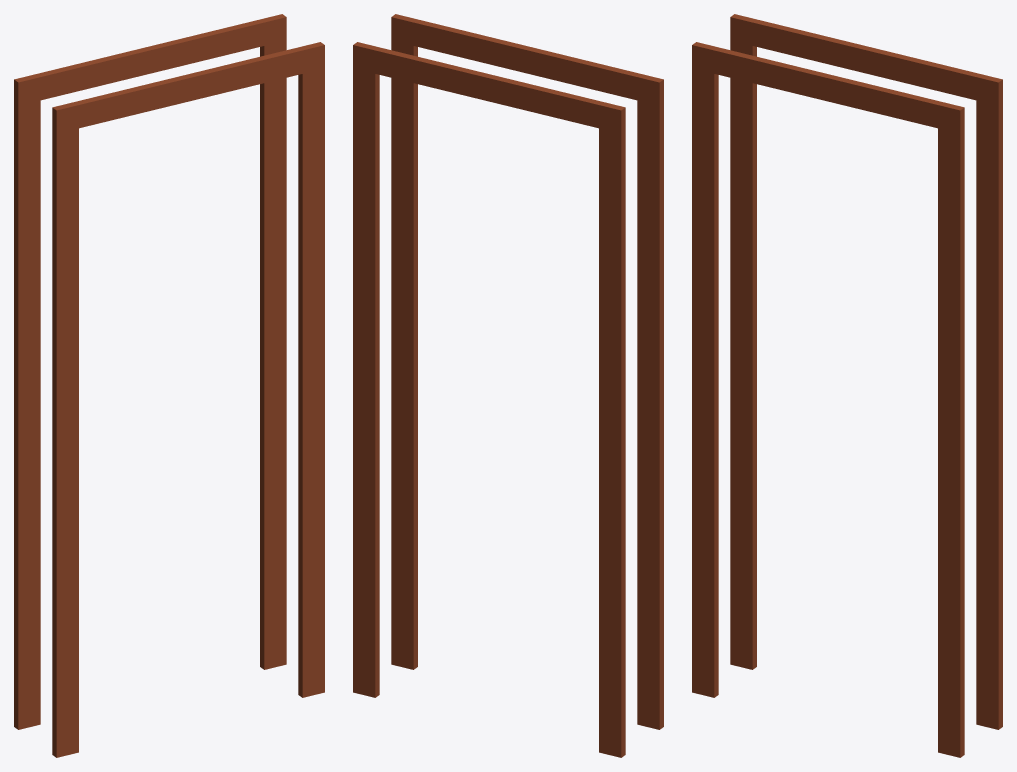
Rendered from 3RJvdtay16xQ_ZgYEsHJx9.dae.
The picture shows the model from 3 angles, left to right: view 1: azimuth 30°, elevation 25°; view 2: azimuth 150°, elevation 25°; view 3: azimuth 330°, elevation 25°; orthographic projection.
Visible parts, largest first — view 1: product-db4f99f7-93c0-46ed-afa3-aa23b6453ec9-body; view 2: product-db4f99f7-93c0-46ed-afa3-aa23b6453ec9-body; view 3: product-db4f99f7-93c0-46ed-afa3-aa23b6453ec9-body.
Boxes of the visible parts, bbox=[...] form: product-db4f99f7-93c0-46ed-afa3-aa23b6453ec9-body: bbox=[14, 14, 324, 757]; product-db4f99f7-93c0-46ed-afa3-aa23b6453ec9-body: bbox=[353, 14, 663, 757]; product-db4f99f7-93c0-46ed-afa3-aa23b6453ec9-body: bbox=[692, 14, 1002, 757].
Bounding box in the file's own units: 0.914 × 0.2504 × 2.11.
